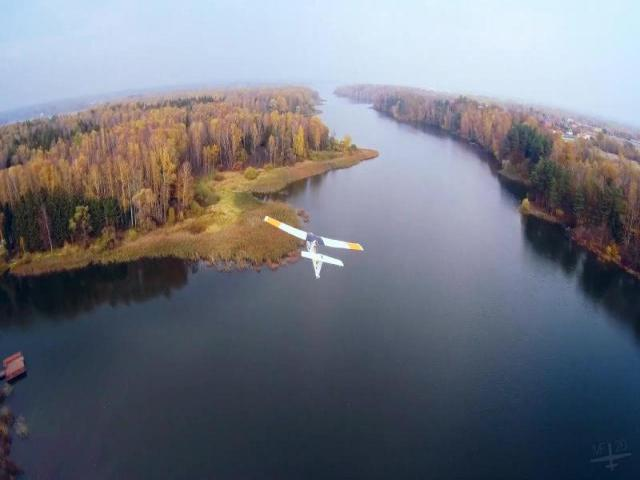hedef: (257, 205, 368, 287)
